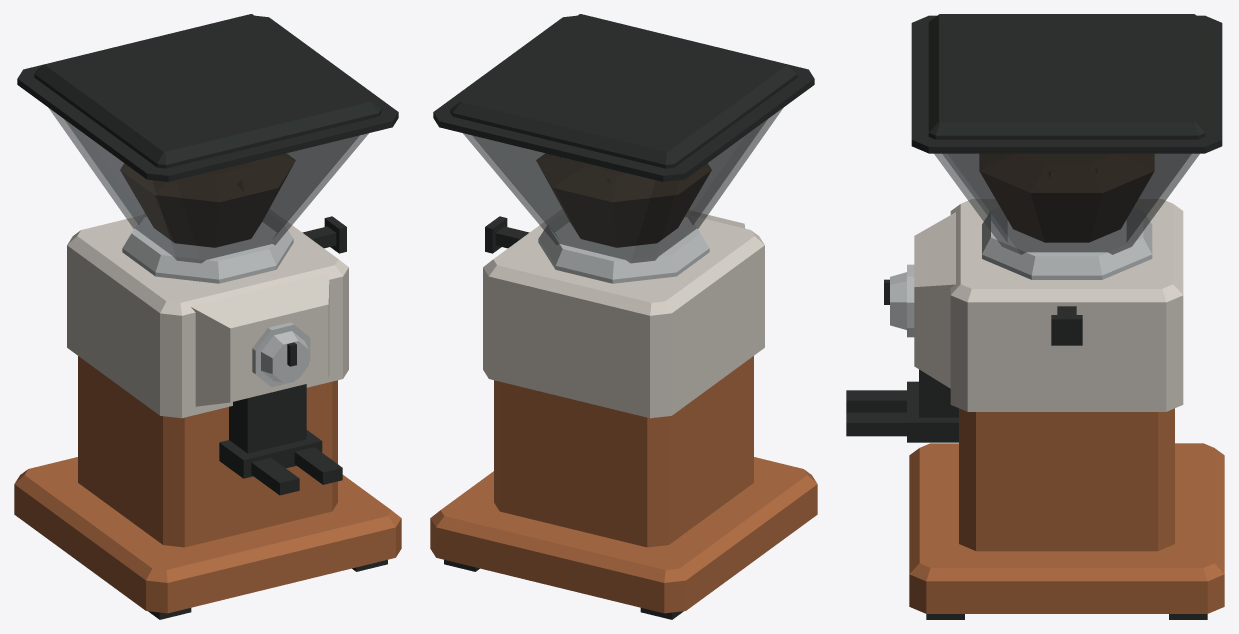
File: coffee-grinder-6f962a.glb
The picture shows the model from 3 angles, left to right: view 1: azimuth 30°, elevation 25°; view 2: azimuth 150°, elevation 25°; view 3: azimuth 270°, elevation 25°; orthographic projection. The views are drawn at different scales.
Visible parts, largest first — view 1: coffee-grinder, lid, dial, hopper-slide; view 2: coffee-grinder, lid, hopper-slide; view 3: coffee-grinder, lid, hopper-slide, dial.
Boxes of the visible parts, left/top/right/bottom form: coffee-grinder: left=14, top=108, right=401, bottom=619; lid: left=17, top=14, right=398, bottom=181; dial: left=261, top=331, right=308, bottom=382; hopper-slide: left=302, top=216, right=346, bottom=253; coffee-grinder: left=430, top=108, right=817, bottom=619; lid: left=433, top=14, right=814, bottom=181; hopper-slide: left=485, top=216, right=529, bottom=253; coffee-grinder: left=846, top=153, right=1224, bottom=619; lid: left=911, top=14, right=1222, bottom=153; hopper-slide: left=1051, top=306, right=1082, bottom=345; dial: left=884, top=272, right=906, bottom=329.
Bounding box in the file's own units: 0.264 × 0.448 × 0.312.
